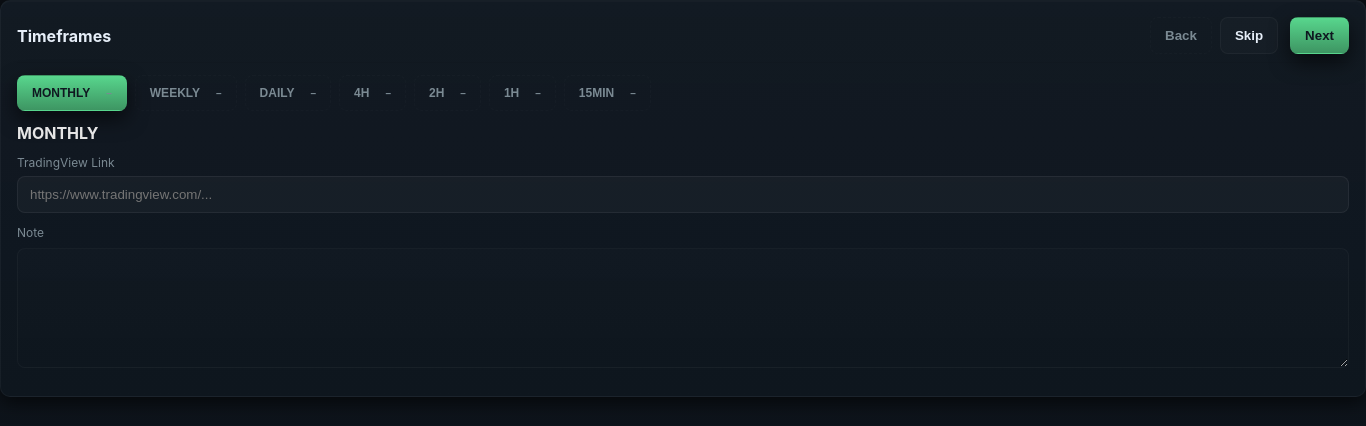
Test: TimeframeWizard › renders pager and navigates between frames
Expected: the button with aria-label "jump to monthly timeframe" is shown, [17, 75, 127, 111]
// click daily and ensure pager moves
Click the button with aria-label "jump to daily timeframe". click: {"x": 288, "y": 93}
box: [245, 75, 331, 111]
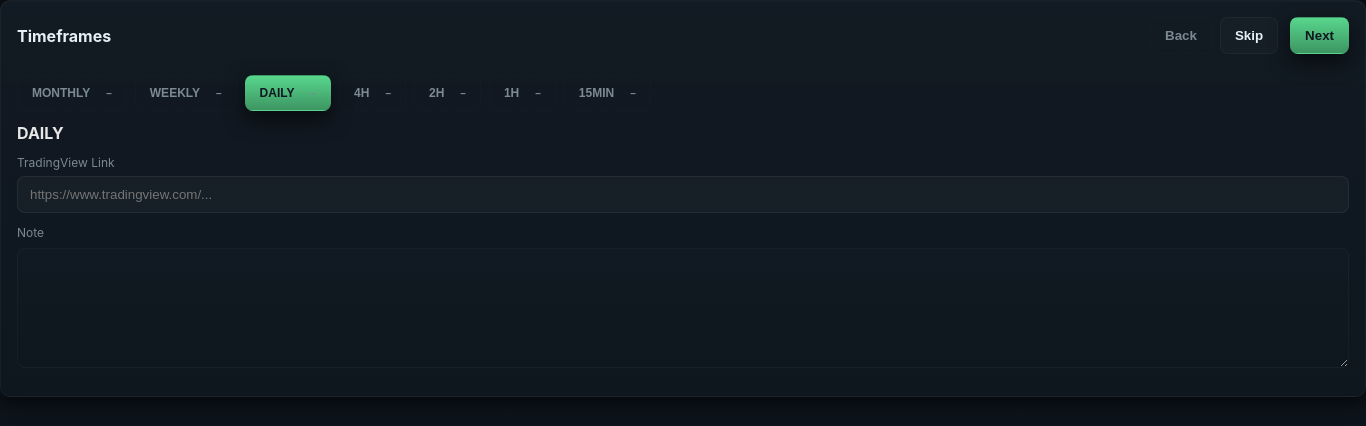
Expected: the heading "DAILY" is shown, [17, 123, 64, 143]
